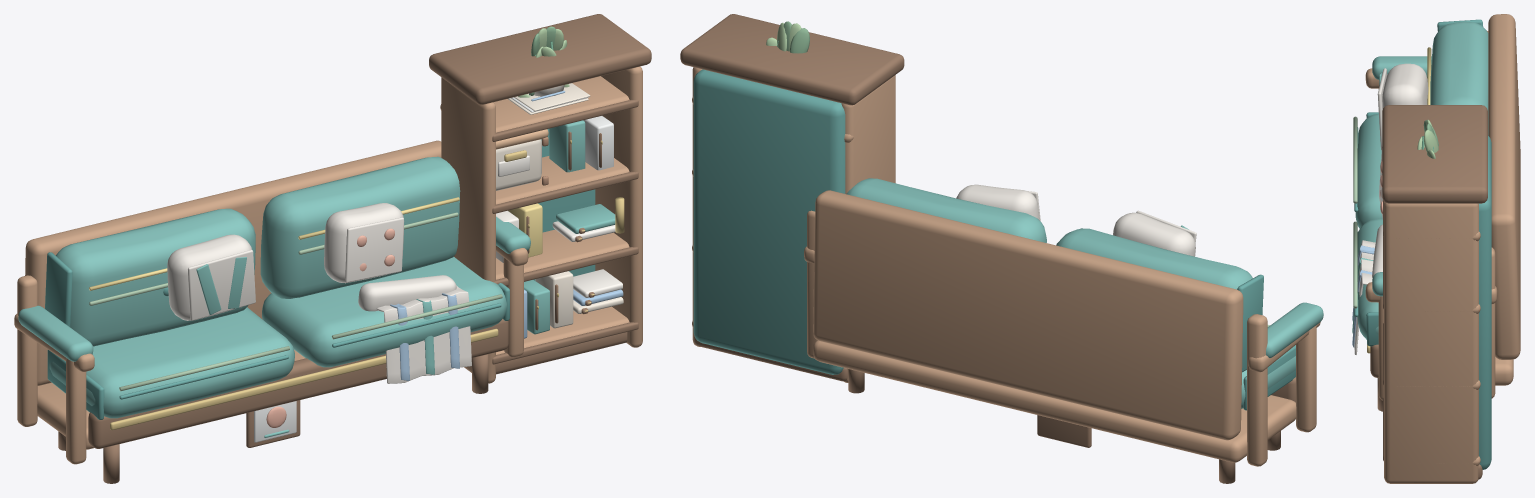
Rendered from civic-lounge-suite.glb.
3 renders of one model, left to right at view 1: azimuth 30°, elevation 25°; view 2: azimuth 150°, elevation 25°; view 3: azimuth 270°, elevation 25°, orthographic.
Visible parts, largest first — view 1: LoungeBackCushion_1, LoungeSeat_-1, LoungeBackCushion_-1, LoungeSeat_1, LoungeBookcaseCrown, LoungeSofaBack, LoungeBookcaseSide_1.25, LoungeSofaFrontRail, LoungeBookcaseSide_2.19, LoungeThrowDrape, LoungePillowCoralInset, LoungePillowButter (+39 smaller); view 2: LoungeSofaBack, LoungeBookcaseBack, LoungeBookcaseCrown, LoungeSofaLowerRail, LoungeBookcaseSide_1.25, LoungeBackCushion_1, LoungeBackCushion_-1, LoungeArmPostRear_-1.4, LoungePillowButter, LoungeArmPostFront_-1.4, LoungeArmPad_-1.4, LoungePillowCoral (+4 smaller); view 3: LoungeBookcaseSide_2.19, LoungeBookcaseCrown, LoungeSofaBack, LoungeBackCushion_-1, LoungeBookcaseBack, LoungeSeat_-1, LoungePillowButter, LoungeSeat_1, LoungeArmPad_-1.4, LoungeArmPostRear_1.4, LoungeThrowDrape, LoungeArmPostFront_1.4 (+12 smaller).
Part boxes in pixels (<box>): LoungeBackCushion_1: <box>260,156,460,298</box>; LoungeSeat_-1: <box>49,307,294,418</box>; LoungeBackCushion_-1: <box>56,208,255,346</box>; LoungeSeat_1: <box>262,257,506,367</box>; LoungeBookcaseCrown: <box>429,14,651,104</box>; LoungeSofaBack: <box>25,140,441,385</box>; LoungeBookcaseSide_1.25: <box>441,77,495,383</box>; LoungeSofaFrontRail: <box>88,319,508,448</box>; LoungeBookcaseSide_2.19: <box>595,66,642,347</box>; LoungeThrowDrape: <box>376,285,471,383</box>; LoungePillowCoralInset: <box>345,217,403,282</box>; LoungePillowButter: <box>167,234,251,320</box>; LoungeSofaBack: <box>813,190,1243,440</box>; LoungeBookcaseBack: <box>693,69,845,374</box>; LoungeBookcaseCrown: <box>680,14,904,105</box>; LoungeSofaLowerRail: <box>813,340,1296,462</box>; LoungeBookcaseSide_1.25: <box>841,75,895,382</box>; LoungeBackCushion_1: <box>846,178,1046,242</box>; LoungeBackCushion_-1: <box>1056,228,1252,289</box>; LoungeArmPostRear_-1.4: <box>1247,314,1267,466</box>; LoungePillowButter: <box>1113,212,1195,256</box>; LoungeArmPostFront_-1.4: <box>1296,325,1316,432</box>; LoungeArmPad_-1.4: <box>1266,302,1323,357</box>; LoungePillowCoral: <box>956,184,1039,220</box>; LoungeBookcaseSide_2.19: <box>1384,202,1478,483</box>; LoungeBookcaseCrown: <box>1382,105,1487,203</box>; LoungeSofaBack: <box>1488,14,1520,359</box>; LoungeBackCushion_-1: <box>1430,21,1488,134</box>; LoungeBookcaseBack: <box>1479,135,1491,469</box>; LoungeSeat_-1: <box>1355,113,1382,228</box>; LoungePillowButter: <box>1382,63,1428,108</box>; LoungeSeat_1: <box>1357,218,1382,339</box>; LoungeArmPad_-1.4: <box>1372,56,1431,79</box>; LoungeArmPostRear_1.4: <box>1491,247,1495,398</box>; LoungeThrowDrape: <box>1354,240,1375,354</box>; LoungeArmPostFront_1.4: <box>1378,296,1383,400</box>.
Size of the model in its own units: 3.76 by 2.14 by 0.9225.
